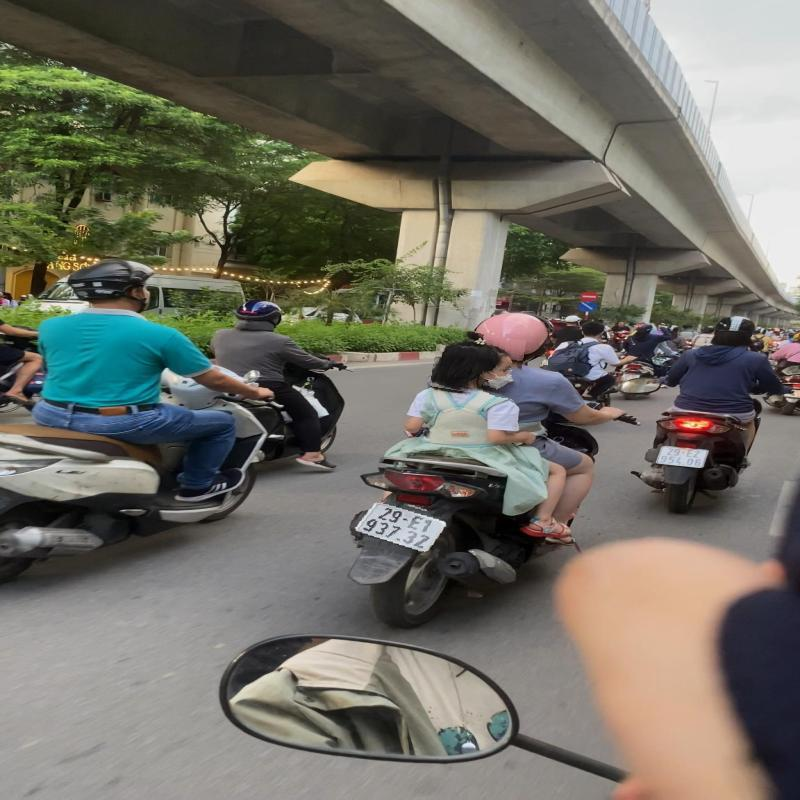licenseplate: (348, 498, 451, 556)
nohelmet: (432, 330, 524, 397)
